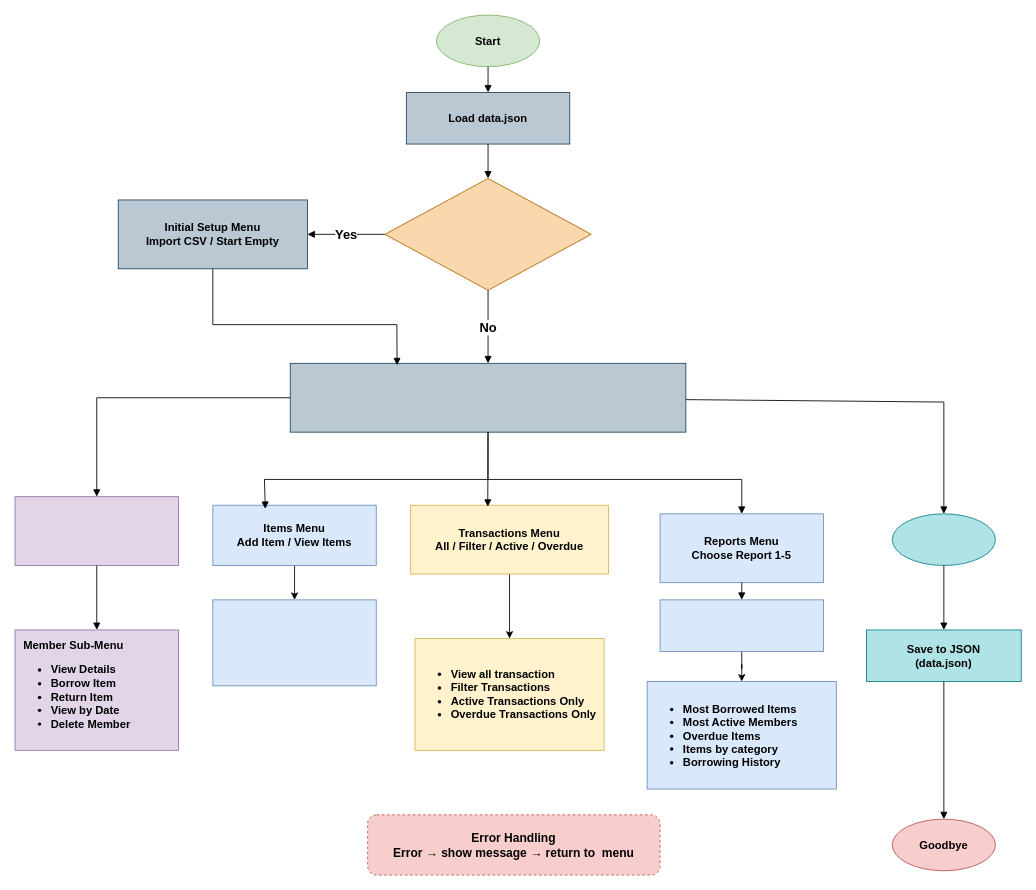
The diagram is 1036 pixels wide and 890 high, and some of its shapes have lost their labels. The shapes that lost their labels are listed below. From the top down, each one's centre as x and y in pixels, then its label:
At pixel 487 234: "Is data.json missing or empty?".
At pixel 487 397: "Main Menu Members / Items / Transactions / Reports / Exit".
At pixel 96 530: "Members Menu Add Member / View Members".
At pixel 943 539: "Exit".
At pixel 294 642: "Add Item View Items".
At pixel 741 625: "Display Report".
